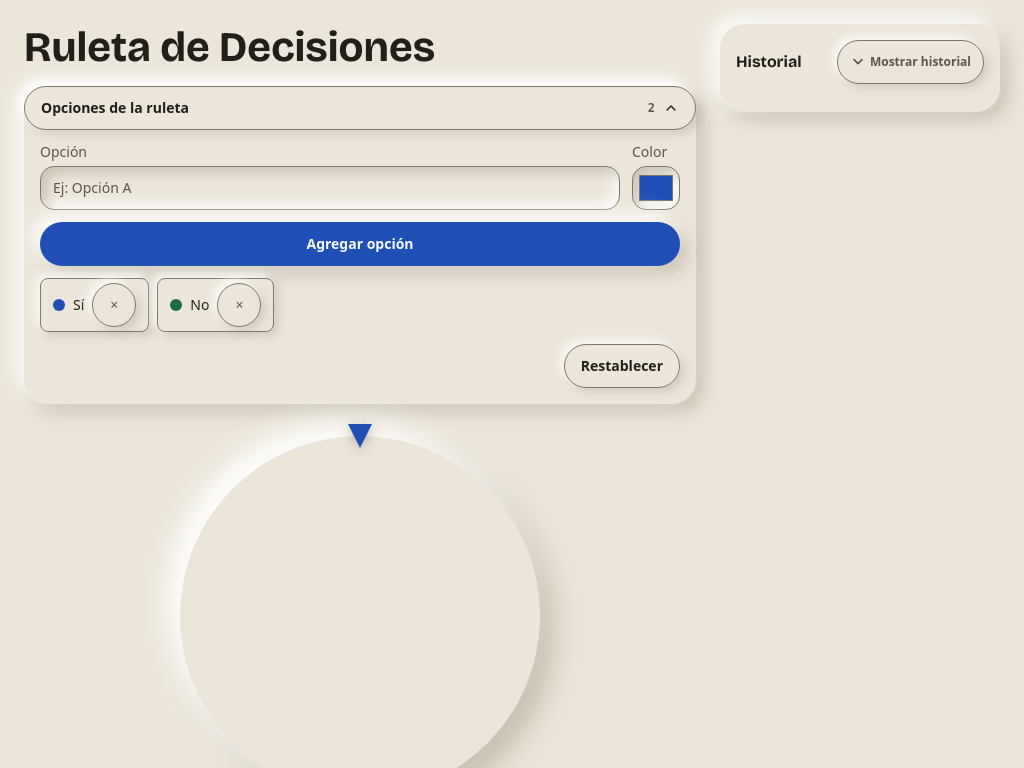
Test case: RoulettePage — giro › deshabilita el botón de giro con menos de 2 opciones
Step 1. Click the button "×" next to "No" → [239, 305], box [217,283,261,327]
(page scrolled)
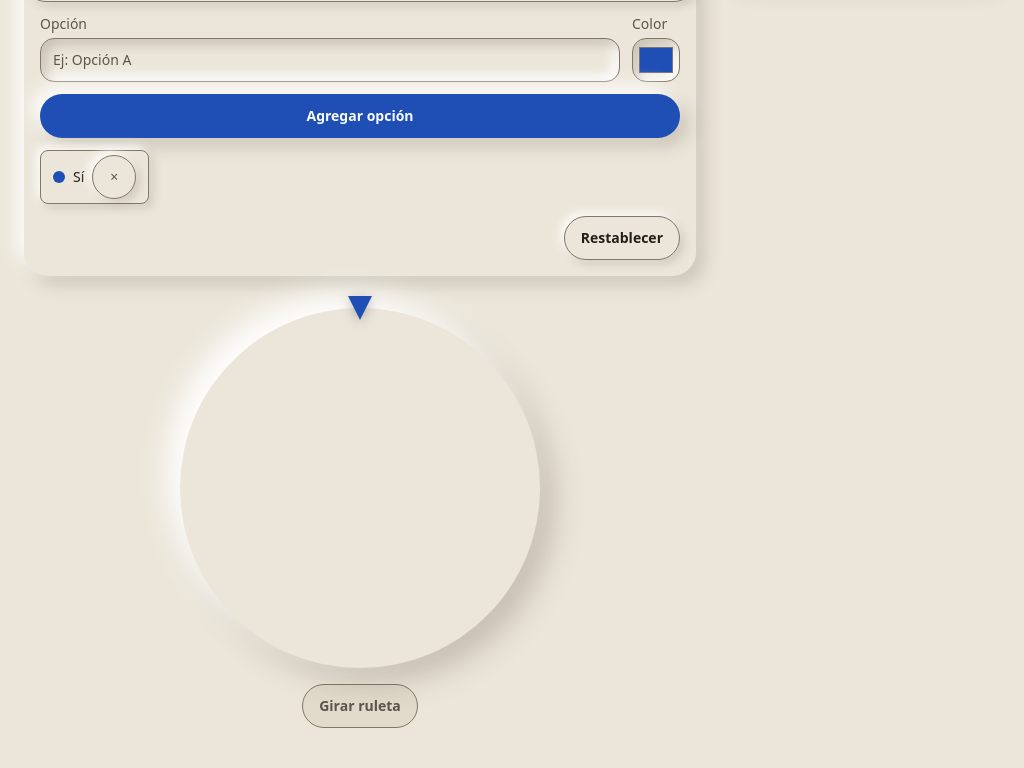
Now the button "Girar ruleta" is disabled, box [302,684,418,728]
